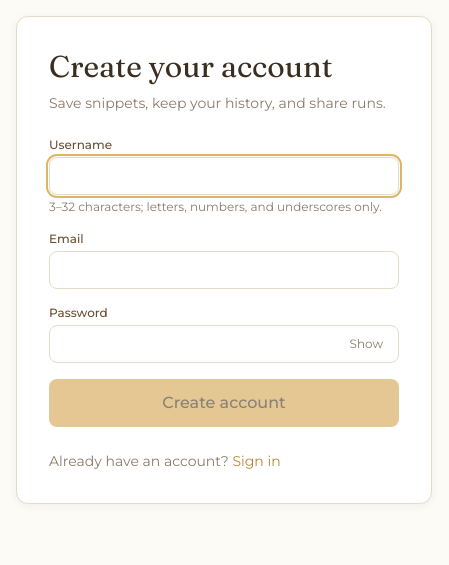
Scenario: RegisterPage › rejects a weak password
Type "short" into the password field labelled "Password" at (224,344), box [49,325,399,363]
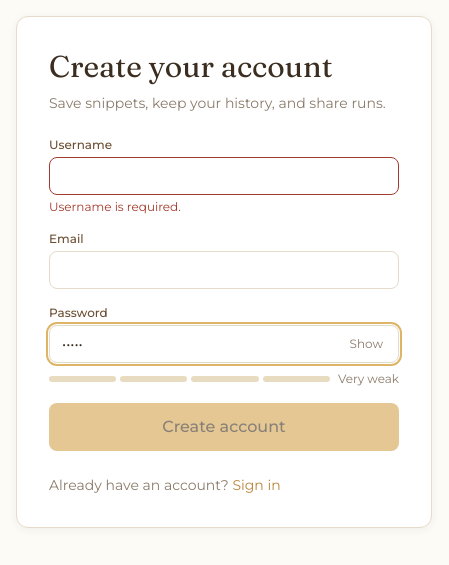
Press Tab
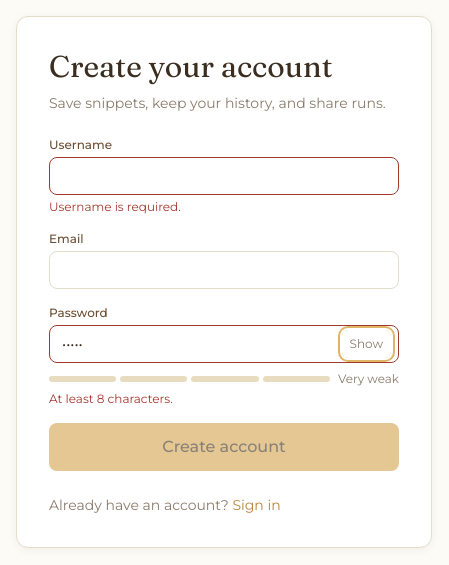
Check: the text "At least 8 characters." is shown, box [49,391,173,406]
